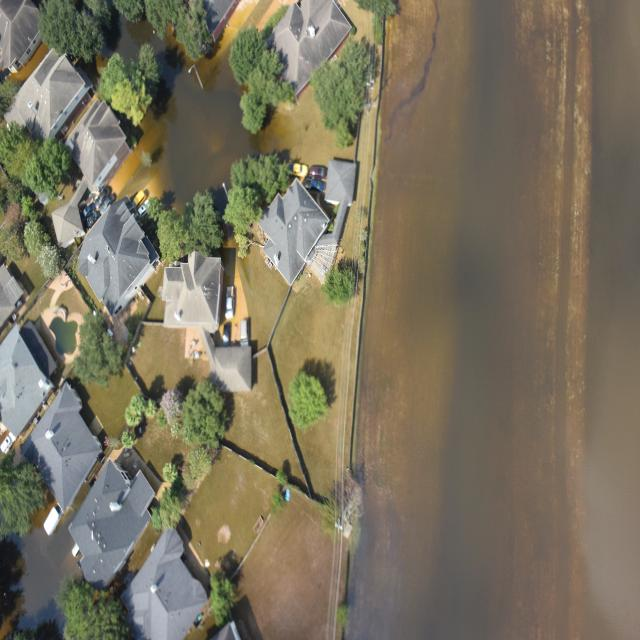fire: (347, 0, 640, 639), (154, 51, 261, 211), (17, 483, 89, 629), (117, 15, 166, 58), (164, 43, 183, 68)
